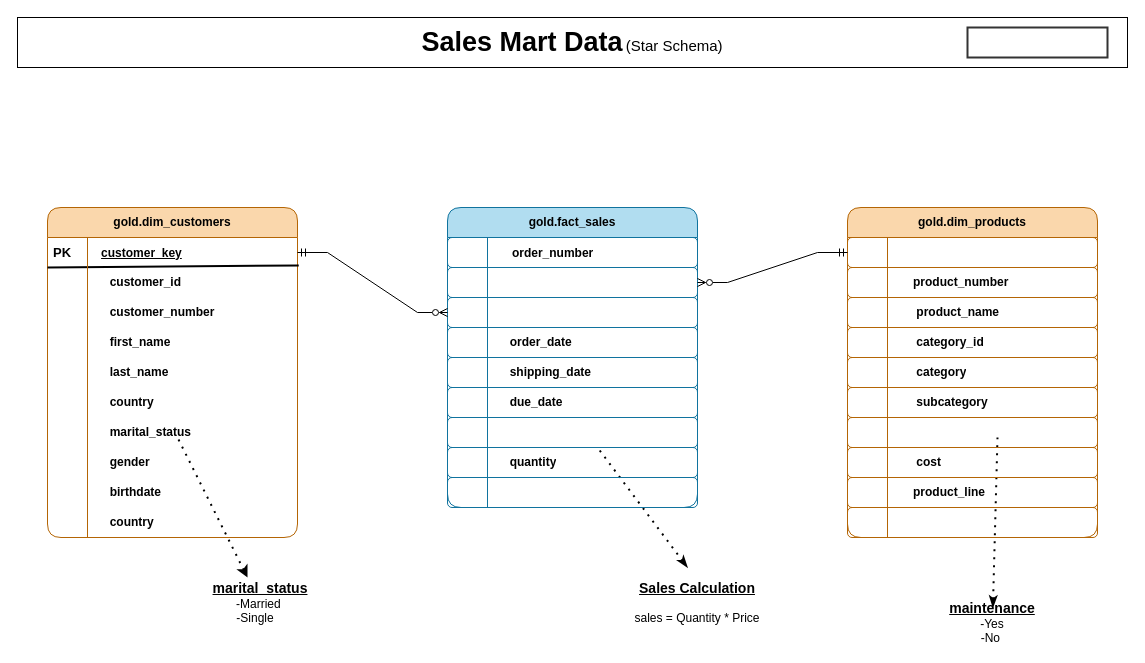
This 1145x663 diagram has some shape labels left out. Here are the shapes that lost their labels. From the top down, the centre of each, then its label:
[1037,42]: By Mikkymayor
[972,252]: PK product_key
[572,282]: FK1 product_key
[572,312]: FK2 customer_key
[572,432]: sales_amount
[972,432]: maintenance
[572,492]: price
[972,522]: start_date
